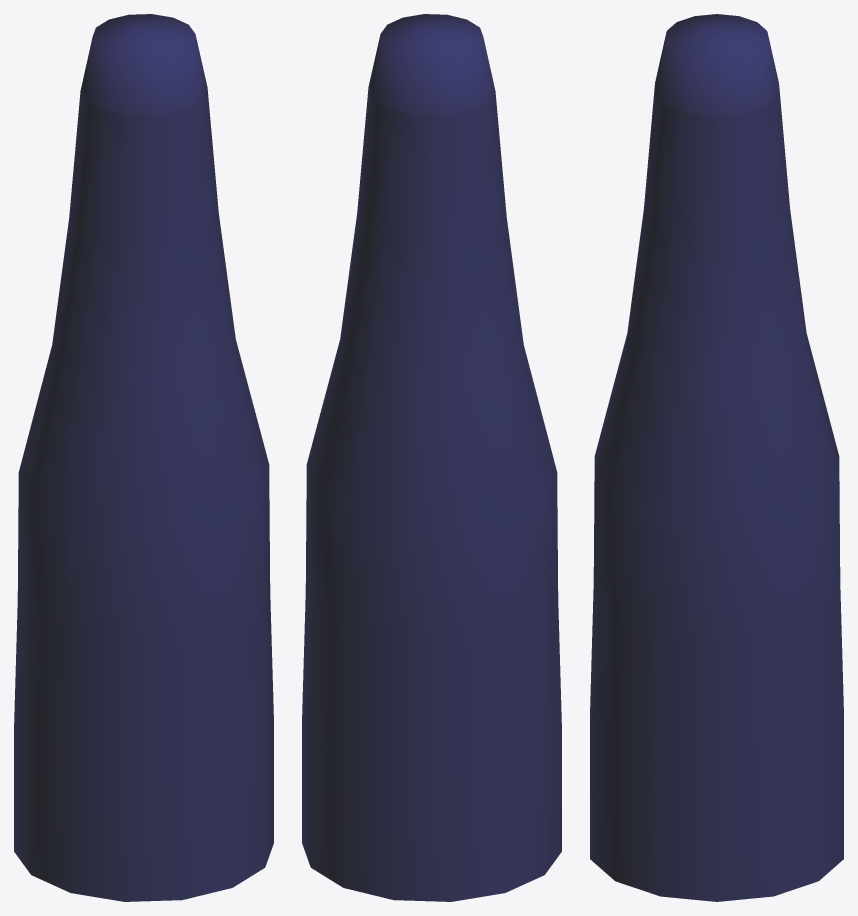
File: bottle_5.fbx
3 views of the same model, side by side, from view 1: azimuth 30°, elevation 25°; view 2: azimuth 150°, elevation 25°; view 3: azimuth 270°, elevation 25° (orthographic).
Visible parts, largest first — view 1: Cylinder005; view 2: Cylinder005; view 3: Cylinder005.
Part boxes in pixels (box(x1,y1,x2,y2)): Cylinder005: box(14, 14, 273, 901); Cylinder005: box(302, 14, 561, 901); Cylinder005: box(590, 14, 843, 901).
Bounding box in the file's own units: 1.06 × 3.66 × 1.03.
